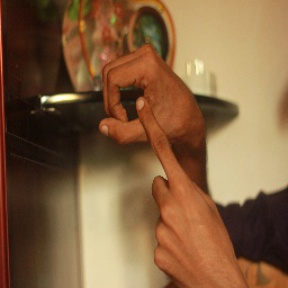Q: (97, 42, 214, 235)
